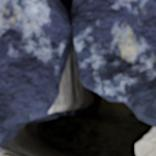broken_brick: (75, 0, 155, 124), (0, 0, 59, 144)
crack: (0, 0, 155, 155)
